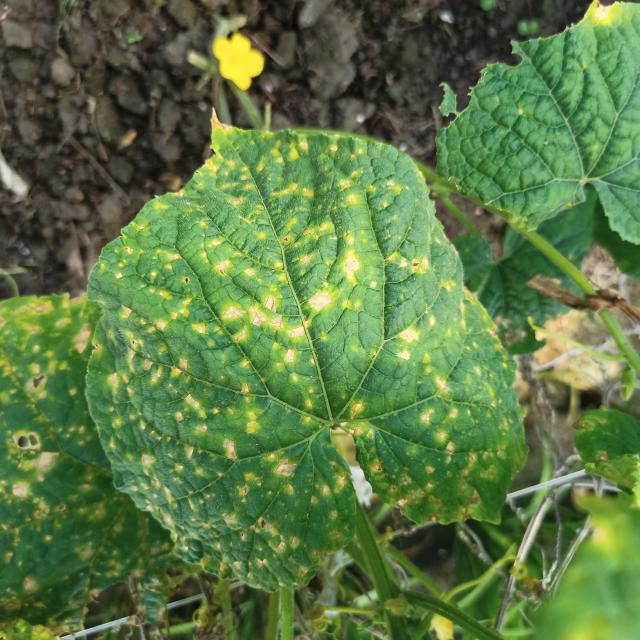disease_cucumber: (90, 132, 521, 591), (0, 291, 150, 629)
